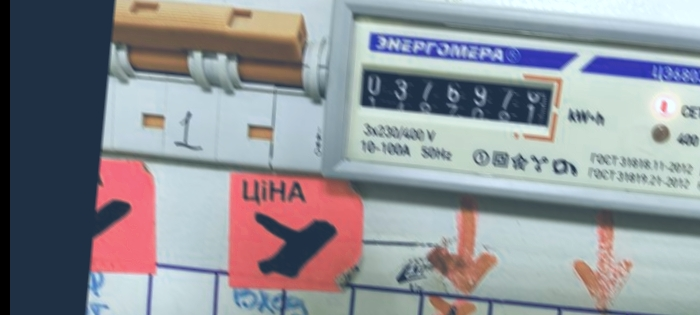0: (367, 73, 384, 97)
1: (526, 103, 537, 126)
3: (394, 79, 409, 101)
6: (446, 80, 463, 104)
7: (420, 78, 436, 103), (500, 86, 516, 110)
9: (473, 84, 489, 108)
screen: (348, 55, 567, 147)
